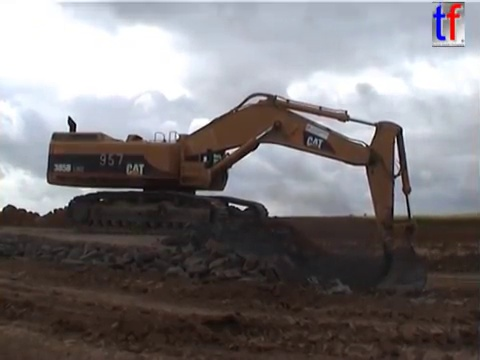excavator: (43, 89, 430, 303)
